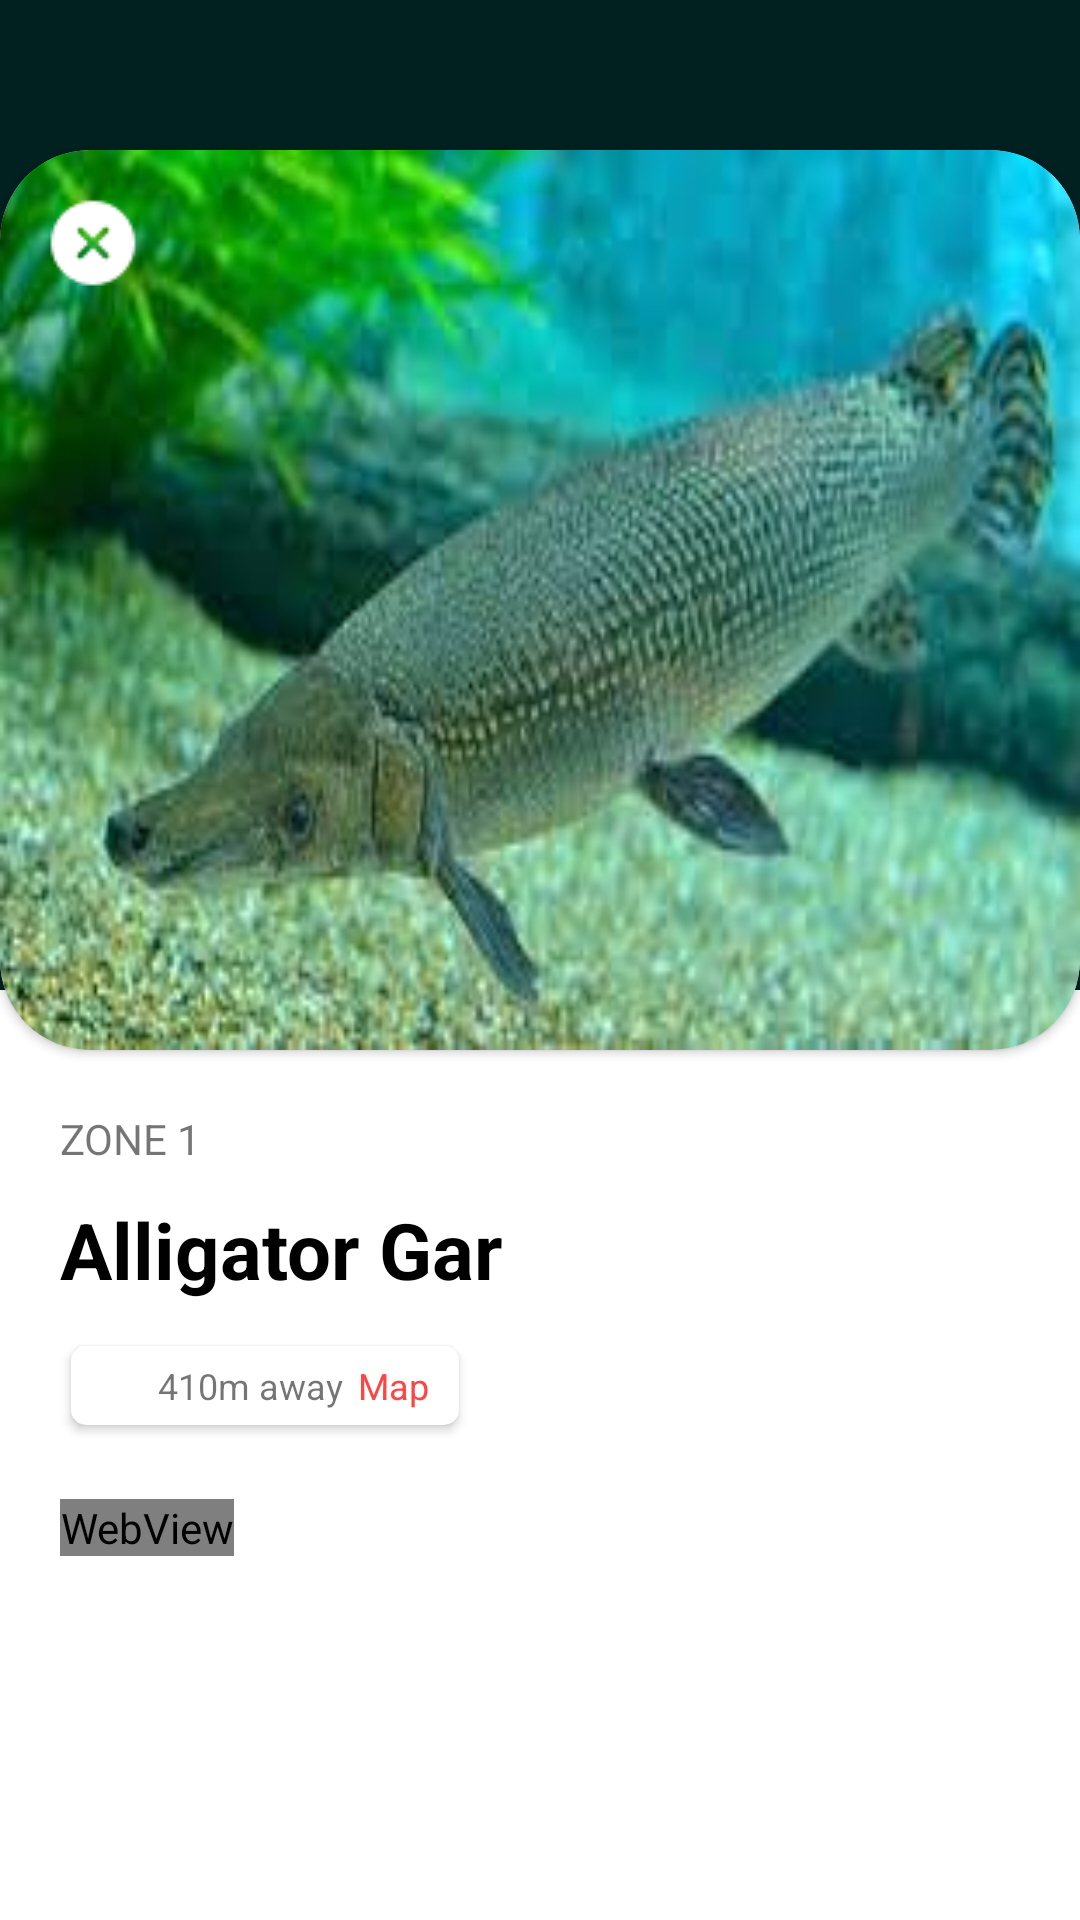

Screen size 1080px×1920px. Icon name, then its center in pixels as point (x, y):
close: point (93, 243)
